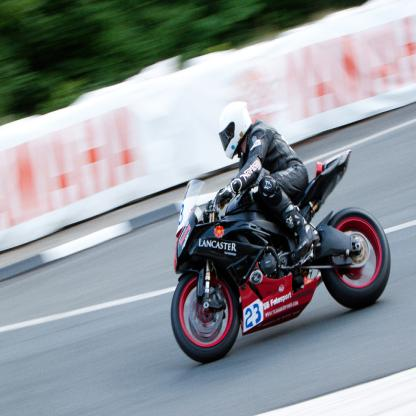Helmet: (221, 106, 252, 156)
